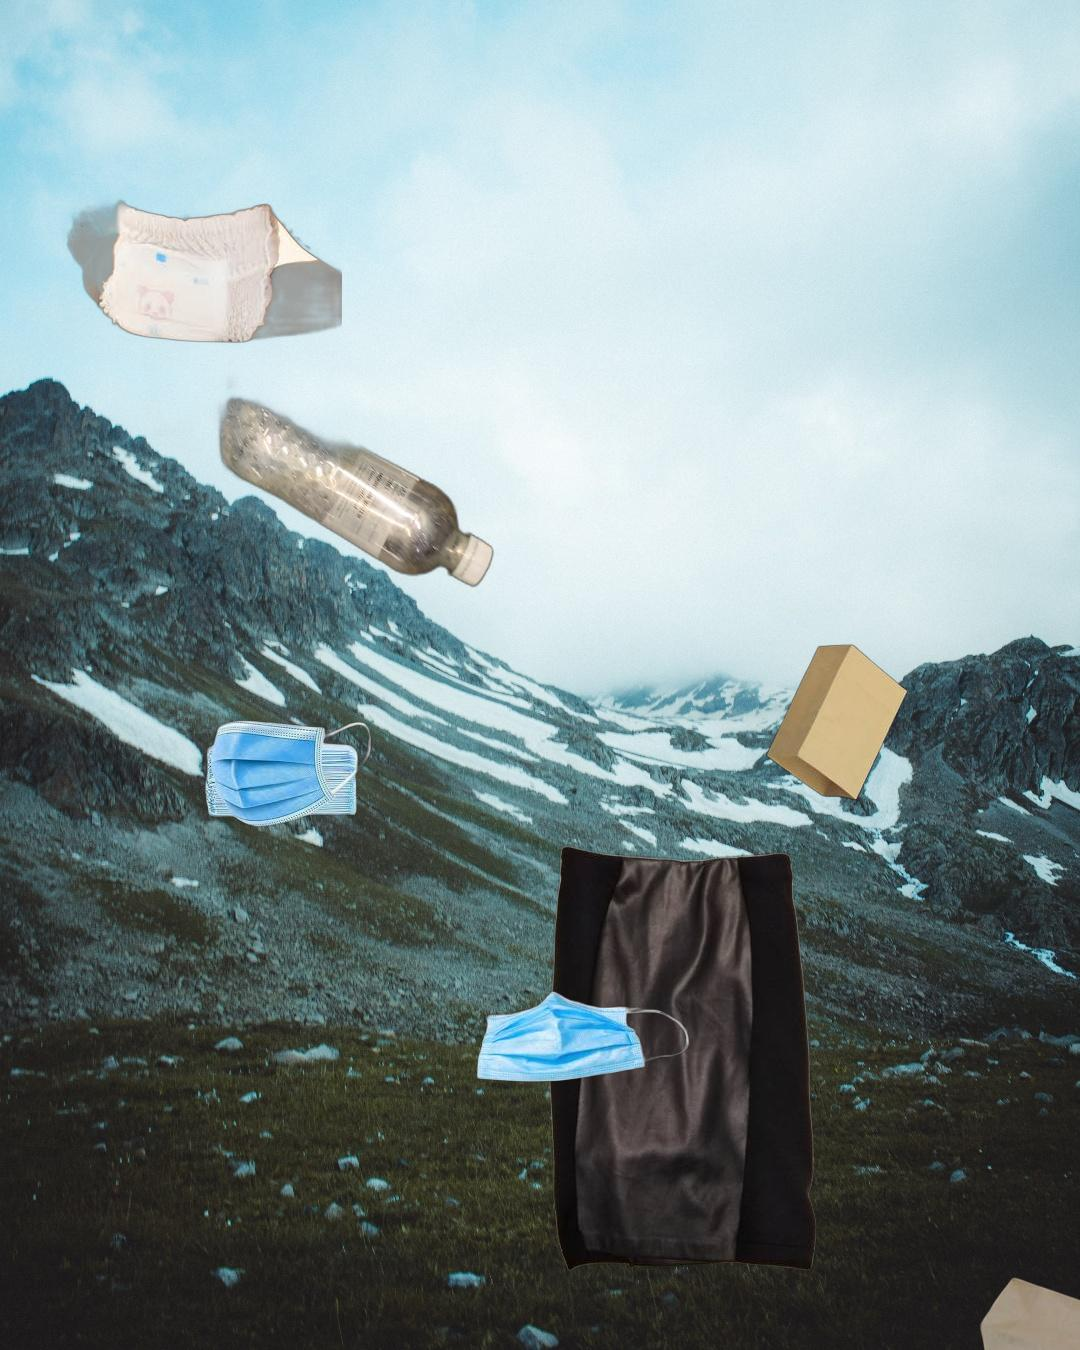clothes: (546, 841, 820, 1275)
paper-bag: (763, 642, 911, 803), (968, 1276, 1080, 1350)
plastic-bottles: (138, 302, 497, 593)
trash: (62, 173, 342, 350), (438, 989, 692, 1086), (202, 708, 374, 830)
